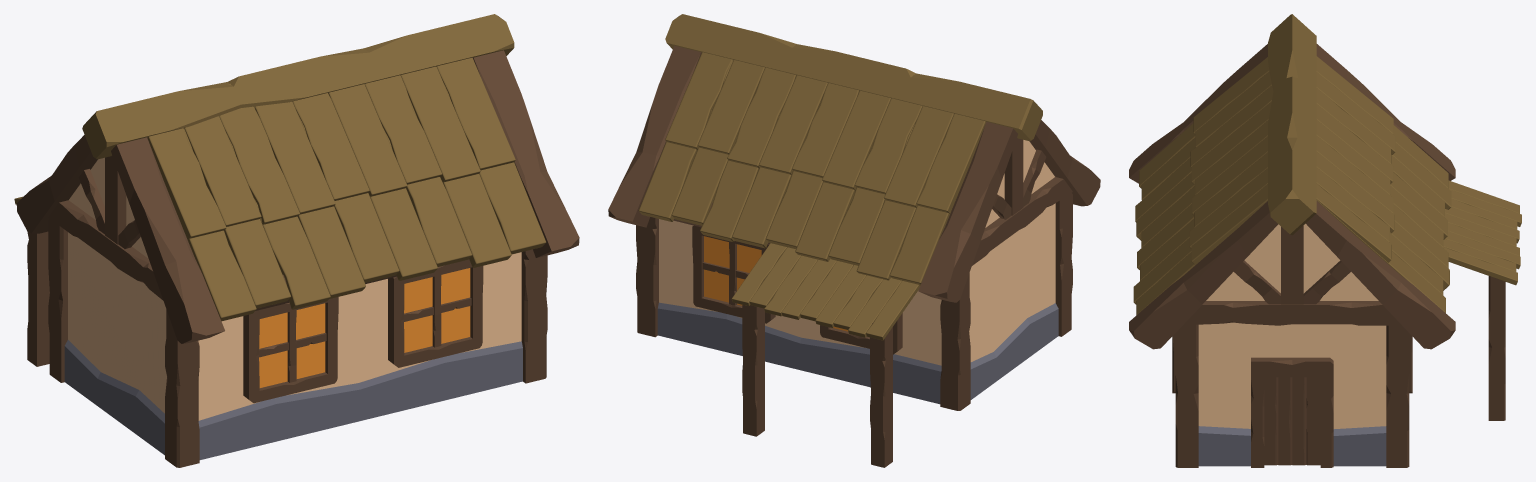
Rendered from HOUSE_player.fbx.
The picture shows the model from 3 angles, left to right: view 1: azimuth 30°, elevation 25°; view 2: azimuth 150°, elevation 25°; view 3: azimuth 270°, elevation 25°; orthographic projection. The views are drawn at different scales.
Visible parts, largest first — view 1: Cube.080, Cube.079, Cube.072, Cube.073, Cube.077, Plane.076, Plane.062, Plane.069, Plane.072, Plane.073, Plane.070, Cube.074 (+5 smaller); view 2: Cube.081, Cube.078, Cube.072, Cube.073, Plane.076, Cube.077, Cube.082, Plane.062, Plane.080, Plane.079, Cube.074, Cube.075 (+3 smaller); view 3: Cube.072, Cube.073, Cube.080, Cube.081, Plane.076, Cube.078, Cube.079, Plane.062, Cube.082, Plane.068, Cube.074, Plane.067 (+4 smaller).
Boxes of the visible parts, x1,y1,x2,y2 form: Cube.080: (148,57,515,238); Cube.079: (147,84,546,321); Cube.072: (68,157,521,420); Cube.073: (16,50,579,343); Cube.077: (64,340,522,459); Plane.076: (82,14,514,159); Plane.062: (48,218,547,467); Plane.069: (388,259,483,367); Plane.072: (243,297,338,403); Plane.073: (259,303,325,387); Plane.070: (404,268,470,352); Cube.074: (48,200,163,300); Cube.081: (665,52,986,213); Cube.078: (638,60,955,285); Cube.072: (659,140,1055,365); Cube.073: (608,45,1100,302); Plane.076: (665,14,1042,141); Cube.077: (657,302,1058,404); Cube.082: (731,243,919,340); Plane.062: (636,193,1072,410); Plane.080: (870,322,892,467); Plane.079: (742,305,764,436); Cube.074: (972,177,1072,265); Cube.075: (992,138,1046,219); Cube.072: (1198,223,1386,428); Cube.073: (1129,44,1455,349); Cube.080: (1189,57,1273,264); Cube.081: (1316,56,1395,262); Plane.076: (1268,14,1316,235); Cube.078: (1316,125,1451,312); Cube.079: (1133,71,1268,314); Plane.062: (1175,324,1409,467); Cube.082: (1443,180,1521,285); Plane.068: (1264,377,1320,465); Cube.074: (1183,301,1401,325); Plane.067: (1251,357,1333,467).
Size of the model in its own units: 1136 by 924 by 1049.
